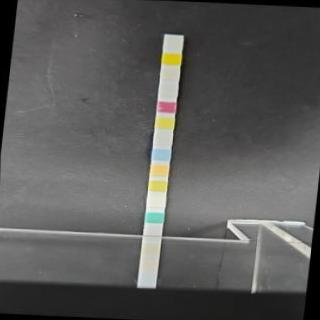mark: (162, 52, 181, 66), (156, 100, 176, 113), (146, 195, 166, 208), (160, 69, 179, 82), (154, 134, 174, 146), (144, 212, 164, 224), (155, 118, 174, 130), (151, 149, 170, 161), (158, 85, 178, 96), (150, 164, 168, 176), (148, 180, 166, 192), (163, 39, 182, 50)
